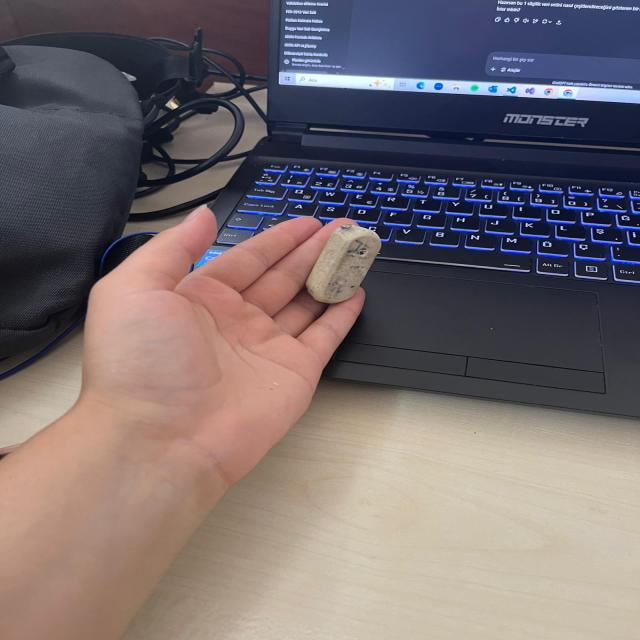eraser: (302, 218, 384, 311)
